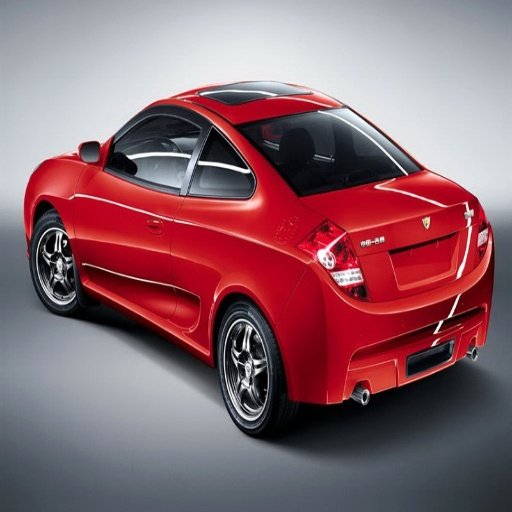back_bumper: (282, 267, 489, 403)
back_glass: (238, 110, 418, 193)
back_left_door: (171, 105, 210, 159)
tailgate: (323, 171, 471, 304)
